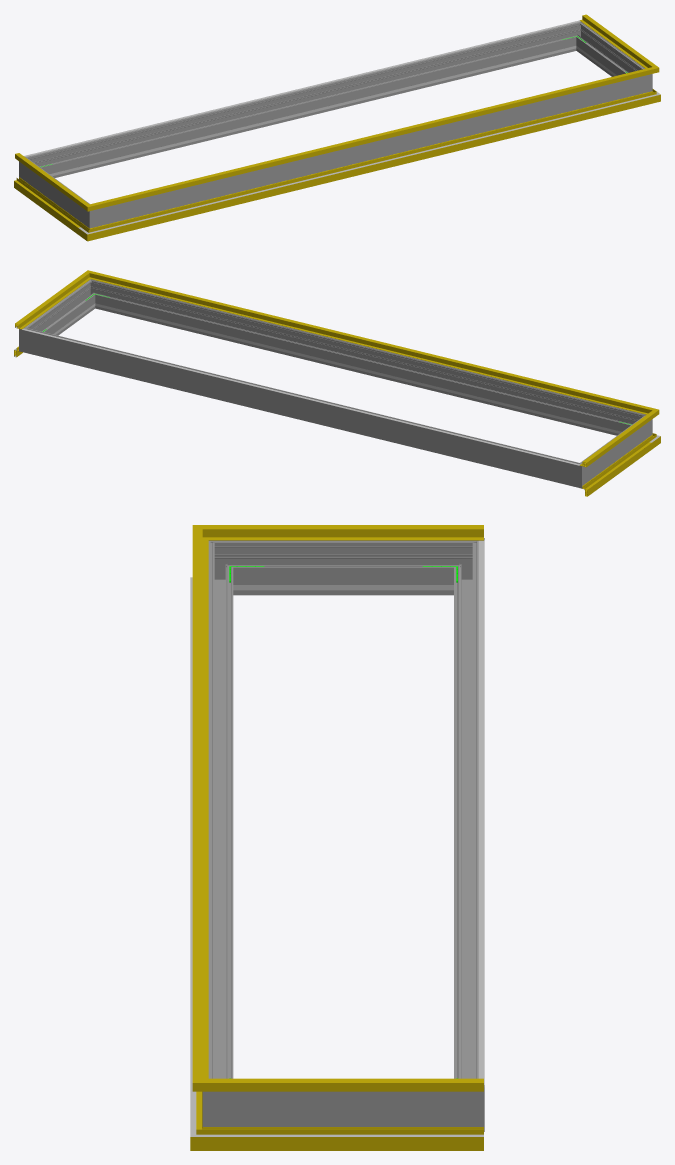
3 renders of one model, top to bottom at view 1: azimuth 30°, elevation 25°; view 2: azimuth 150°, elevation 25°; view 3: azimuth 270°, elevation 25°, orthographic. The views are drawn at different scales.
Parts seen in each view (by area): view 1: 3DGeom-276, 3DGeom-298, 3DGeom-90, 3DGeom-123, 3DGeom-244, 3DGeom-297, 3DGeom-220, 3DGeom-100, 3DGeom-268, 3DGeom-85, 3DGeom-128, 3DGeom-118 (+2 smaller); view 2: 3DGeom-298, 3DGeom-276, 3DGeom-123, 3DGeom-239, 3DGeom-297, 3DGeom-220, 3DGeom-268, 3DGeom-85, 3DGeom-128, 3DGeom-118, 3DGeom-278, 3DGeom-284 (+1 smaller); view 3: 3DGeom-298, 3DGeom-276, 3DGeom-268, 3DGeom-123, 3DGeom-297, 3DGeom-97, 3DGeom-118, 3DGeom-220, 3DGeom-128, 3DGeom-100, 3DGeom-290, 3DGeom-284 (+3 smaller).
Part boxes in pixels (x1,y1,x2,y2): 3DGeom-276: (36,25,573,177); 3DGeom-298: (105,78,636,224); 3DGeom-90: (100,94,644,237); 3DGeom-123: (101,70,643,207); 3DGeom-244: (55,49,560,175); 3DGeom-297: (578,27,640,76); 3DGeom-220: (24,20,580,156); 3DGeom-100: (102,97,644,230); 3DGeom-268: (28,162,85,221); 3DGeom-85: (14,177,83,234); 3DGeom-128: (580,14,649,66); 3DGeom-118: (15,153,82,204); 3DGeom-298: (98,282,634,435); 3DGeom-276: (35,331,568,484); 3DGeom-123: (100,274,642,412); 3DGeom-239: (110,307,616,432); 3DGeom-297: (31,285,93,335); 3DGeom-220: (22,328,579,465); 3DGeom-268: (586,420,643,478); 3DGeom-85: (582,439,651,496); 3DGeom-128: (15,277,85,329); 3DGeom-118: (580,415,650,467); 3DGeom-278: (566,458,591,488); 3DGeom-284: (19,323,37,354); 3DGeom-298: (208,553,233,1078); 3DGeom-276: (454,553,478,1078); 3DGeom-268: (239,540,447,595); 3DGeom-123: (192,540,208,1075); 3DGeom-297: (239,1091,447,1126); 3DGeom-97: (227,1127,483,1150); 3DGeom-118: (229,525,483,540); 3DGeom-220: (478,540,484,1085); 3DGeom-128: (229,1078,483,1091); 3DGeom-100: (190,593,196,1121); 3DGeom-290: (202,1072,239,1126); 3DGeom-284: (448,1072,484,1131).
Bounding box in the file's own units: 5.49 × 0.3069 × 1.22.
